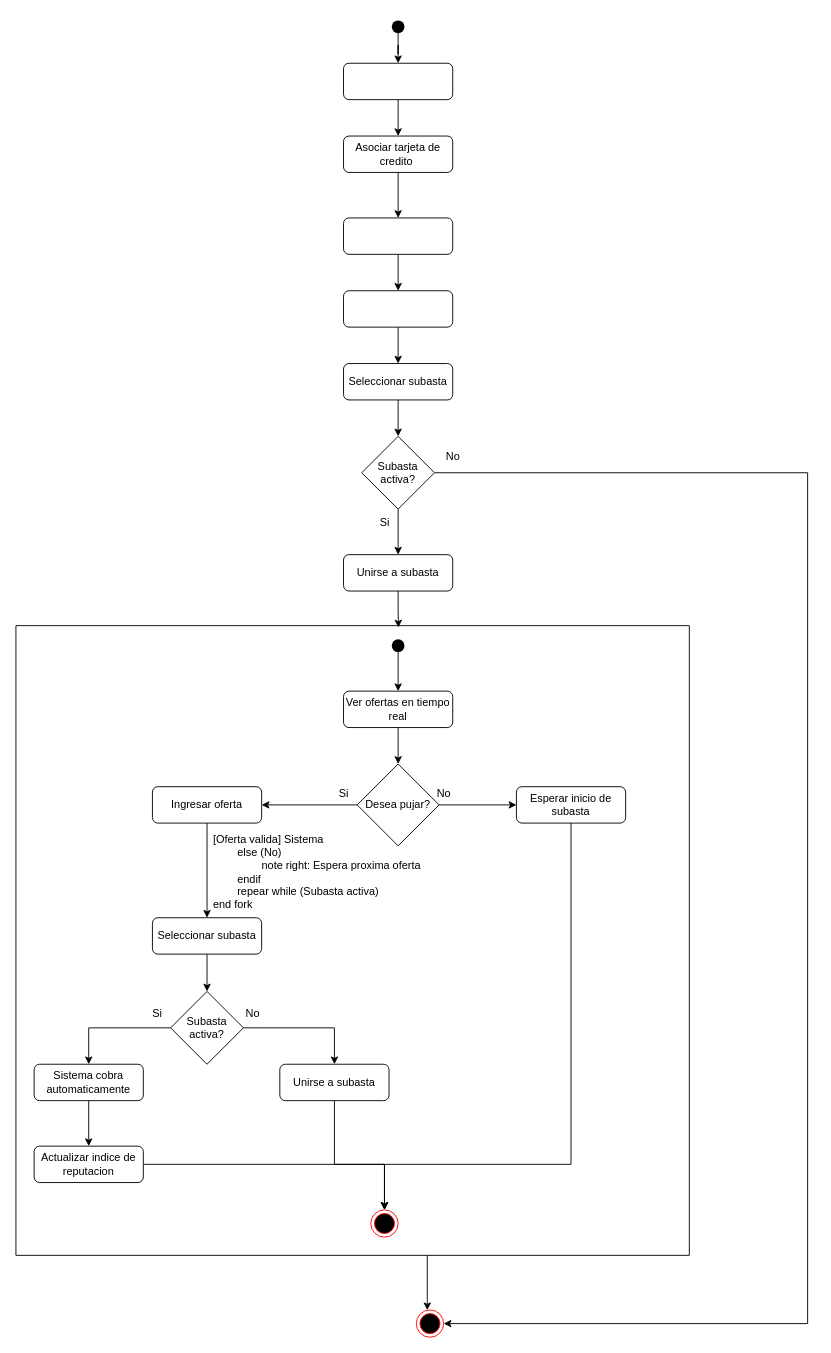
This 831x1353 diagram has some shape labels left out. The shapes that lost their labels are listed below. From the top down, each one's centre as x and y in pixels, then its label:
point (398, 81): Registrarse
point (398, 235): Iniciar sesión
point (398, 308): Ver lista de subastas
